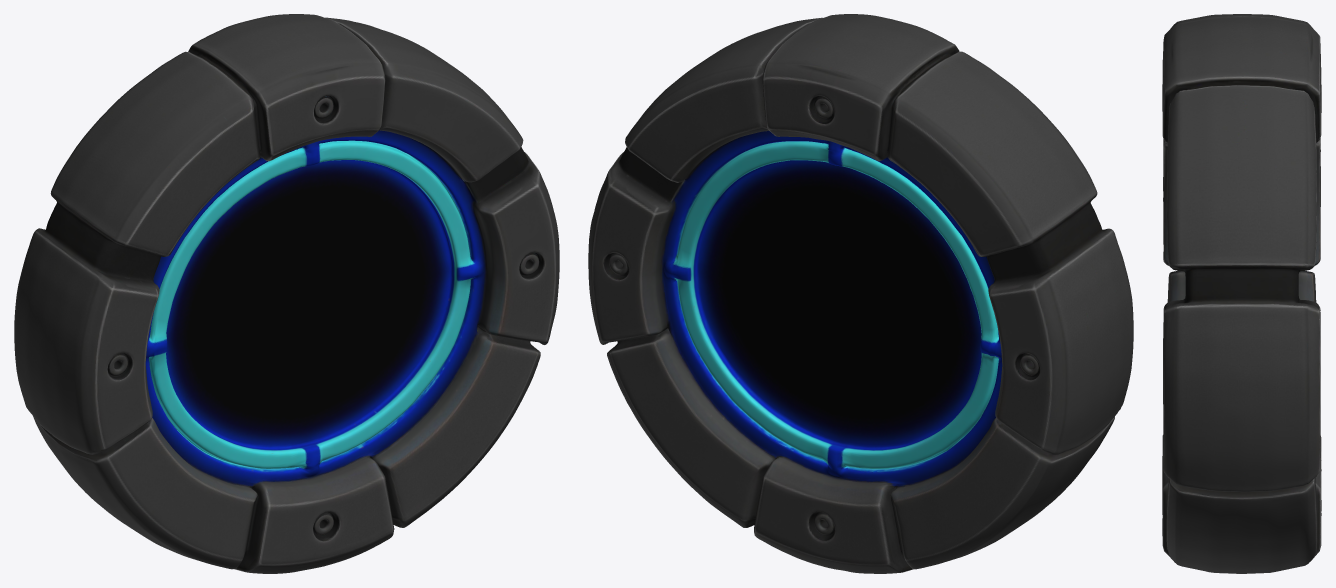
Rendered from 차량유도_땅_2.fbx.
3 renders of one model, left to right at view 1: azimuth 30°, elevation 25°; view 2: azimuth 150°, elevation 25°; view 3: azimuth 270°, elevation 25°, orthographic.
Visible parts, largest first — view 1: tripo_node_a809ae2c; view 2: tripo_node_a809ae2c; view 3: tripo_node_a809ae2c.
Part boxes in pixels (x1,y1,x2,y2): tripo_node_a809ae2c: (14,14,559,573); tripo_node_a809ae2c: (588,14,1133,573); tripo_node_a809ae2c: (1162,14,1321,573).
Size of the model in its own units: 97.92 by 97.69 by 27.57.
Materials: 1 (1 with a texture image).
